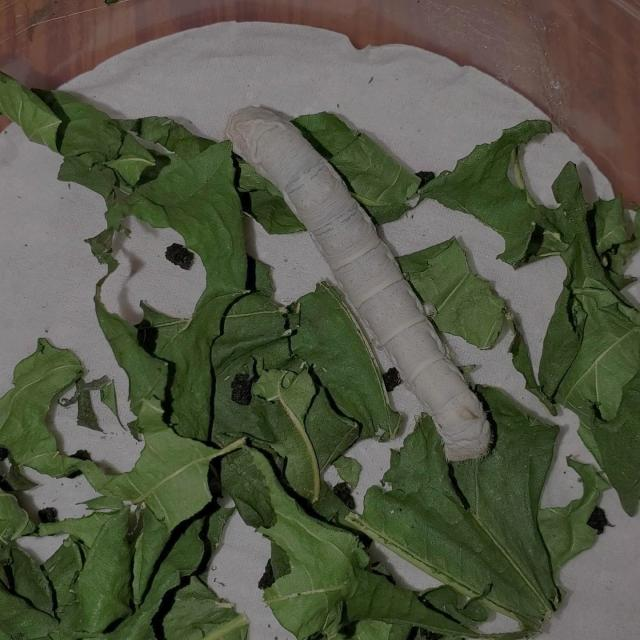Healthy: (217, 100, 510, 470)
